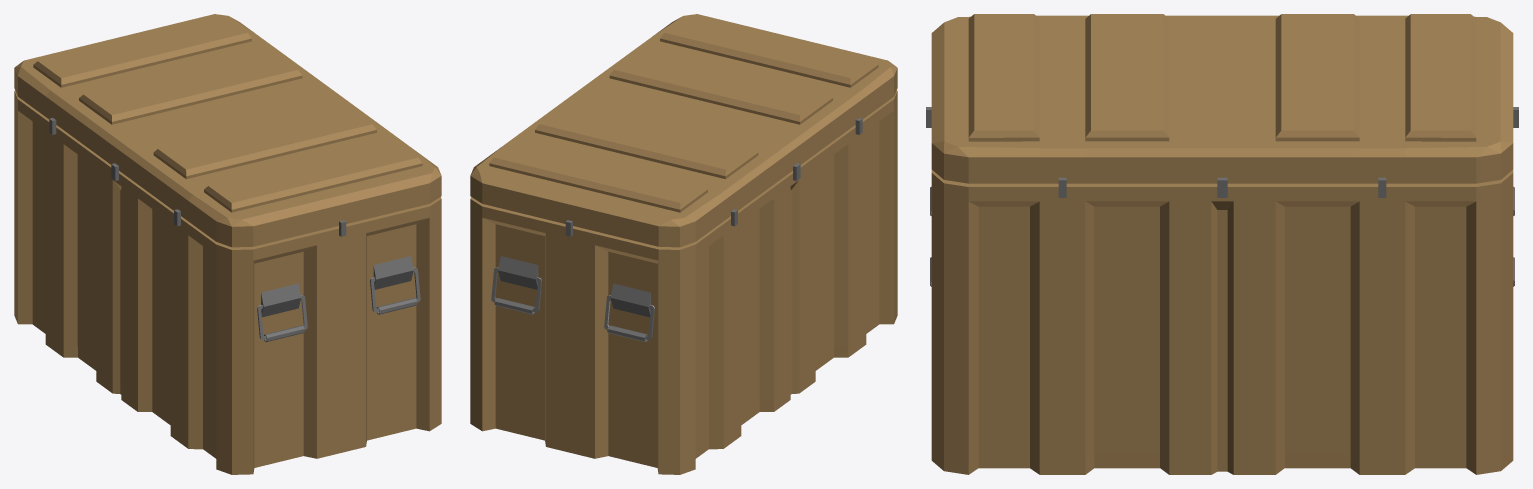
Rendered from crate 2.fbx.
3 views of the same model, side by side, from view 1: azimuth 30°, elevation 25°; view 2: azimuth 150°, elevation 25°; view 3: azimuth 270°, elevation 25° (orthographic). The views are drawn at different scales.
Parts seen in each view (by area): view 1: Box, Lid, Cube, Clasps; view 2: Box, Lid, Cube, Clasps; view 3: Box, Lid, Clasps.
Part boxes in pixels (x1,y1,x2,y2): Box: (14, 90, 441, 474); Lid: (14, 14, 441, 247); Cube: (257, 256, 420, 342); Clasps: (49, 118, 346, 236); Box: (470, 90, 897, 474); Lid: (470, 14, 897, 247); Cube: (491, 256, 654, 342); Clasps: (565, 118, 862, 236); Box: (931, 169, 1513, 474); Lid: (931, 14, 1513, 183); Clasps: (926, 107, 1518, 197).
Size of the model in its own units: 214 by 232 by 373.
